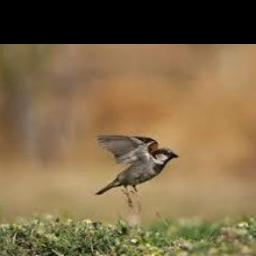Sparrow: (94, 135, 178, 213)
